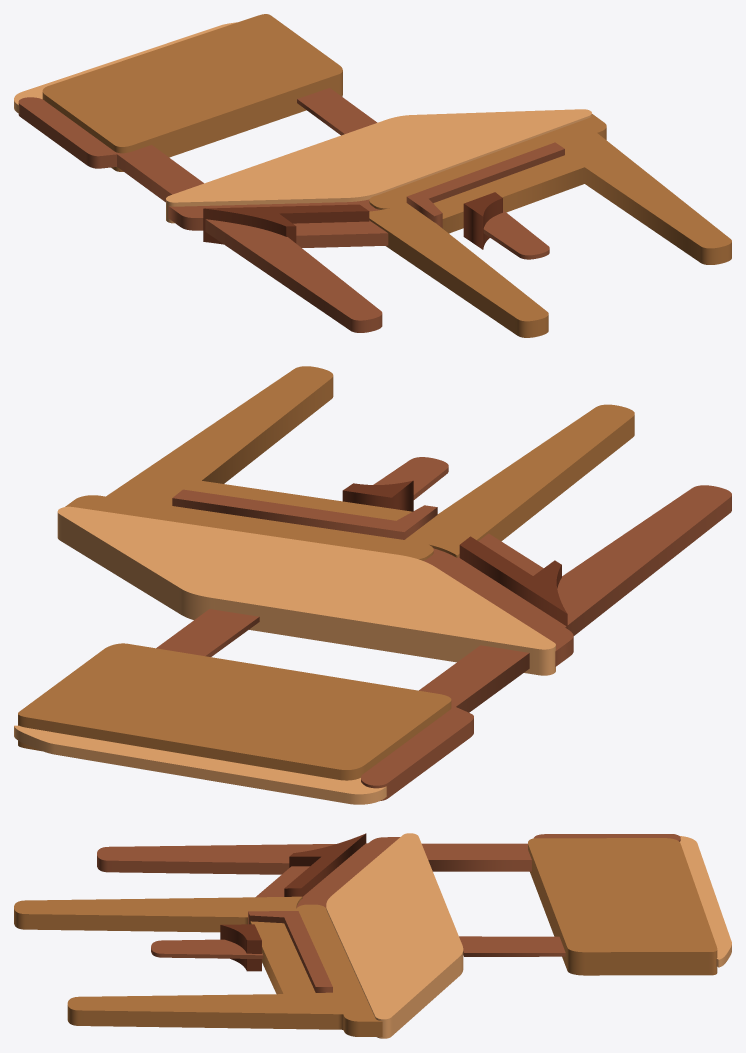
Rendered from emoji_u1fa91.glb.
3 renders of one model, top to bottom at view 1: azimuth 30°, elevation 25°; view 2: azimuth 150°, elevation 25°; view 3: azimuth 270°, elevation 25°, orthographic. The views are drawn at different scales.
Parts seen in each view (by area): view 1: emoji_u1fa91; view 2: emoji_u1fa91; view 3: emoji_u1fa91.
Boxes of the visible parts, x1=… form: emoji_u1fa91: x1=14, y1=14, x2=731, y2=337; emoji_u1fa91: x1=14, y1=366, x2=731, y2=804; emoji_u1fa91: x1=14, y1=833, x2=731, y2=1038.
Bounding box in the file's own units: 0.0209 × 0.0016 × 0.0335.
